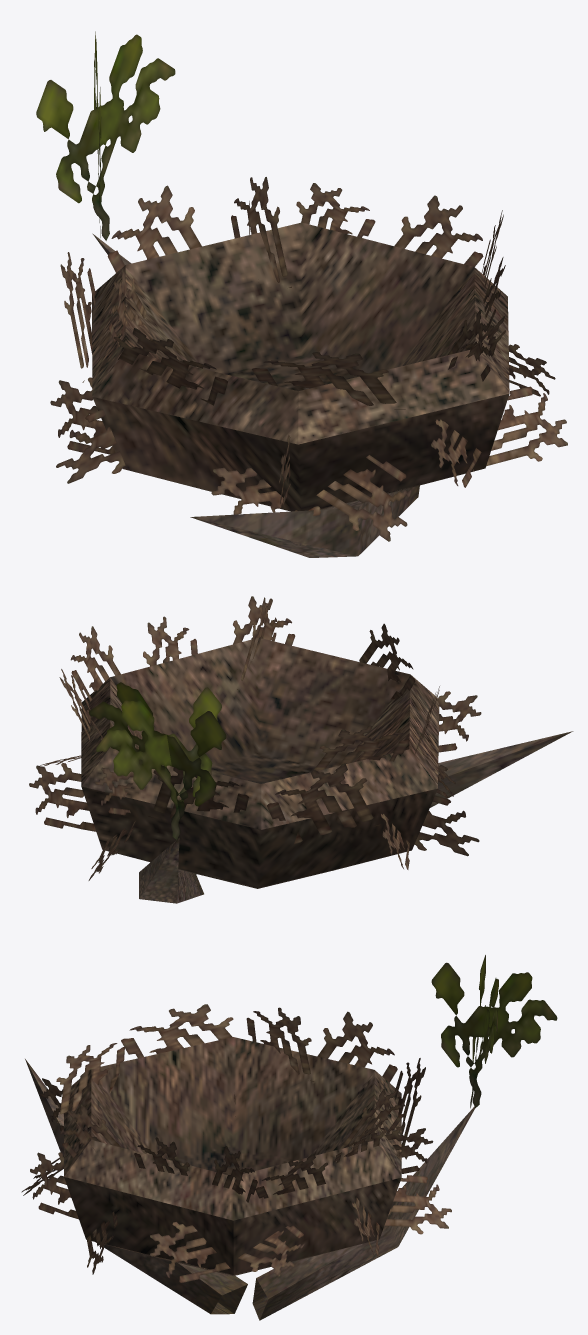
3 views of the same model, one above another, from view 1: azimuth 30°, elevation 25°; view 2: azimuth 150°, elevation 25°; view 3: azimuth 270°, elevation 25° (orthographic). The views are drawn at different scales.
Parts seen in each view (by area): view 1: polySurface11, polySurface10, polySurface7, polySurface3, polySurface30, polySurface35, polySurface20, polySurface28, polySurface34, polySurface15, polySurface18, polySurface32 (+8 smaller); view 2: polySurface11, polySurface10, polySurface6, polySurface7, polySurface21, polySurface3, polySurface5, polySurface23, polySurface22, polySurface20, polySurface32, polySurface14 (+9 smaller); view 3: polySurface11, polySurface10, polySurface5, polySurface6, polySurface3, polySurface34, polySurface25, polySurface21, polySurface35, polySurface24, polySurface22, polySurface7 (+12 smaller).
Part boxes in pixels (bbox=[...]): polySurface11: bbox=[92, 222, 509, 444]; polySurface10: bbox=[92, 393, 509, 511]; polySurface7: bbox=[36, 34, 175, 240]; polySurface3: bbox=[190, 485, 419, 557]; polySurface30: bbox=[316, 455, 411, 541]; polySurface35: bbox=[252, 352, 405, 409]; polySurface20: bbox=[107, 185, 201, 272]; polySurface28: bbox=[473, 386, 567, 471]; polySurface34: bbox=[114, 328, 227, 405]; polySurface15: bbox=[394, 195, 483, 266]; polySurface18: bbox=[231, 177, 291, 287]; polySurface32: bbox=[56, 409, 125, 483]; polySurface11: bbox=[81, 637, 439, 829]; polySurface10: bbox=[81, 786, 437, 888]; polySurface6: bbox=[96, 687, 221, 839]; polySurface7: bbox=[89, 682, 226, 833]; polySurface21: bbox=[267, 763, 380, 844]; polySurface3: bbox=[196, 731, 573, 874]; polySurface5: bbox=[139, 837, 203, 903]; polySurface23: bbox=[29, 763, 96, 831]; polySurface22: bbox=[313, 725, 409, 770]; polySurface20: bbox=[148, 767, 248, 818]; polySurface32: bbox=[414, 795, 479, 856]; polySurface14: bbox=[70, 626, 120, 701]; polySurface11: bbox=[64, 1037, 401, 1220]; polySurface10: bbox=[64, 1177, 401, 1275]; polySurface5: bbox=[252, 1106, 475, 1320]; polySurface6: bbox=[431, 962, 557, 1107]; polySurface3: bbox=[25, 1059, 247, 1314]; polySurface34: bbox=[121, 1004, 233, 1058]; polySurface25: bbox=[150, 1222, 230, 1282]; polySurface21: bbox=[317, 1011, 397, 1082]; polySurface35: bbox=[56, 1043, 124, 1122]; polySurface24: bbox=[384, 1175, 451, 1234]; polySurface22: bbox=[246, 1007, 314, 1081]; polySurface7: bbox=[470, 955, 498, 1108].
Size of the model in its own units: 0.8353 by 0.6005 by 0.9589.
